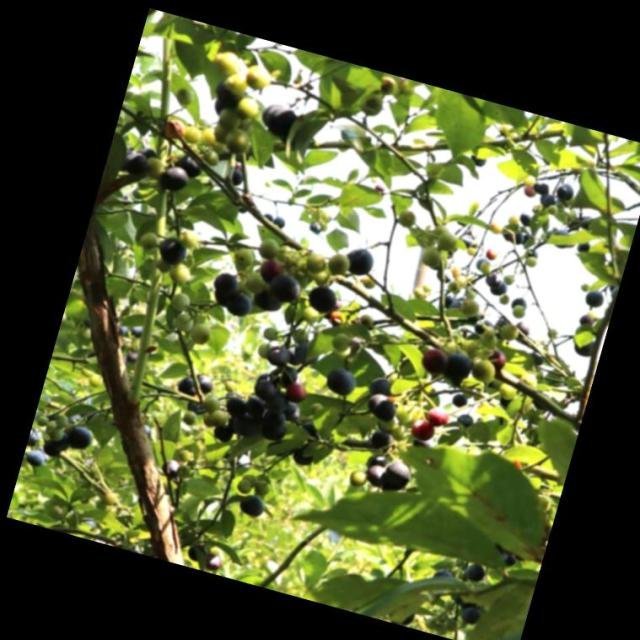blueberry: (256, 96, 301, 138), (262, 267, 304, 306), (303, 281, 342, 316), (153, 232, 192, 266), (339, 244, 377, 278), (363, 391, 398, 424), (322, 363, 358, 395), (442, 348, 473, 384), (154, 162, 190, 193), (381, 457, 414, 490), (231, 489, 267, 519), (170, 150, 208, 178), (222, 287, 255, 319), (249, 284, 286, 312), (117, 148, 153, 176), (208, 268, 242, 296), (62, 421, 92, 451), (288, 439, 319, 468), (231, 409, 260, 438), (362, 459, 390, 489), (258, 414, 288, 442), (365, 372, 396, 399), (365, 422, 394, 450), (190, 367, 219, 395), (546, 224, 574, 252), (459, 559, 487, 586), (272, 361, 300, 387), (173, 373, 200, 399), (184, 538, 212, 562), (208, 419, 235, 443), (247, 375, 275, 398), (21, 443, 46, 468), (551, 180, 577, 203), (456, 601, 482, 624), (159, 454, 185, 477), (263, 343, 290, 365), (40, 434, 64, 458), (244, 392, 267, 417), (571, 335, 597, 357), (470, 316, 496, 338), (296, 420, 323, 441), (489, 315, 513, 338), (223, 393, 246, 417), (263, 392, 289, 413), (582, 286, 606, 308), (452, 408, 476, 430), (501, 225, 526, 246), (429, 566, 454, 587), (509, 319, 533, 340), (488, 276, 510, 298), (447, 387, 470, 408), (517, 206, 540, 226), (496, 550, 518, 568), (539, 189, 558, 209), (532, 176, 552, 195), (574, 211, 594, 230), (509, 293, 529, 312), (485, 269, 504, 287), (574, 238, 591, 254)
blueberry-halfripe: (418, 345, 448, 374), (283, 378, 311, 406), (408, 415, 437, 442), (422, 401, 449, 429)
blueberry-unripe: (250, 232, 280, 262), (391, 397, 424, 424), (468, 356, 497, 386), (301, 249, 326, 275), (166, 262, 192, 286), (493, 379, 518, 402), (433, 230, 459, 252), (329, 330, 351, 352), (190, 321, 211, 344), (174, 310, 194, 332), (172, 290, 192, 312), (208, 405, 228, 425), (346, 466, 365, 487), (200, 391, 219, 412), (516, 371, 537, 388)
